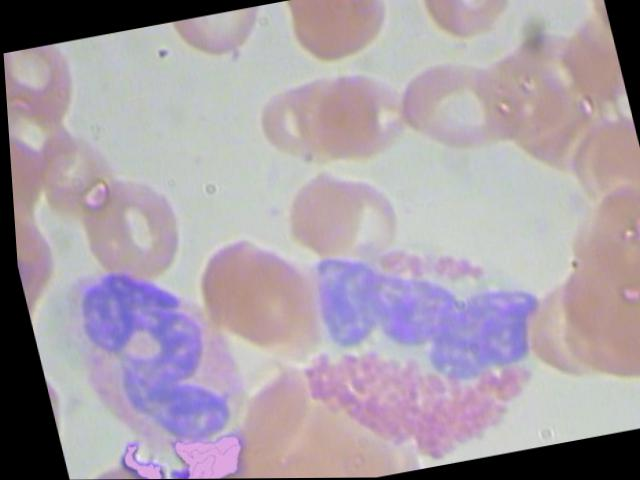Red Blood Cells: (379, 41, 534, 168), (176, 219, 304, 355), (64, 164, 188, 286), (26, 119, 129, 220), (271, 158, 374, 259), (282, 63, 384, 164), (241, 65, 344, 165), (314, 63, 417, 163), (309, 165, 411, 265), (564, 176, 639, 300), (272, 0, 402, 71), (535, 20, 627, 116), (562, 116, 639, 214), (2, 43, 83, 135), (160, 5, 279, 66), (412, 0, 520, 46)
White Blood Cells: (253, 216, 573, 478), (39, 248, 262, 470)
